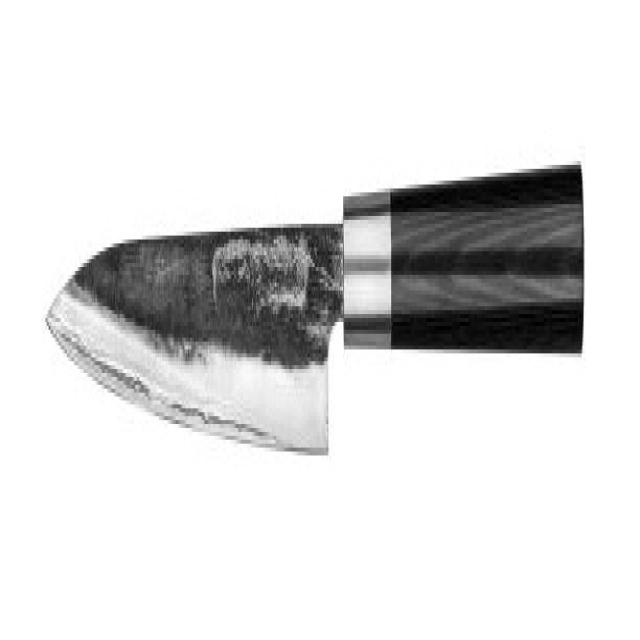knife: (42, 153, 592, 481)
